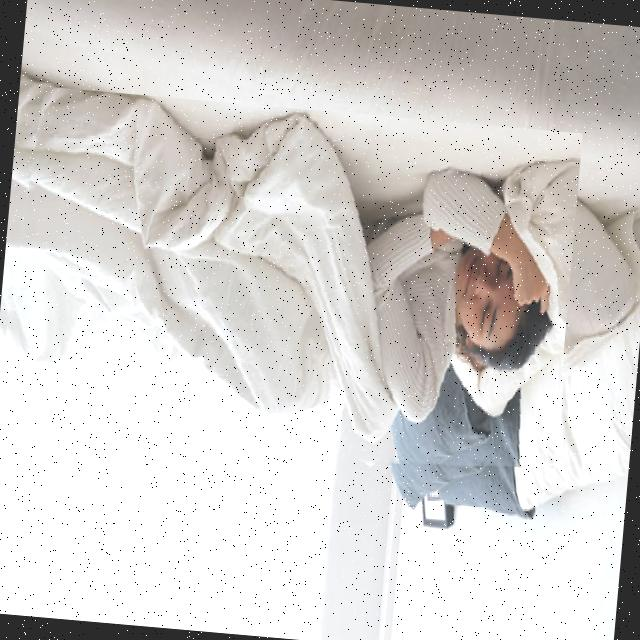people: (0, 84, 582, 501)
